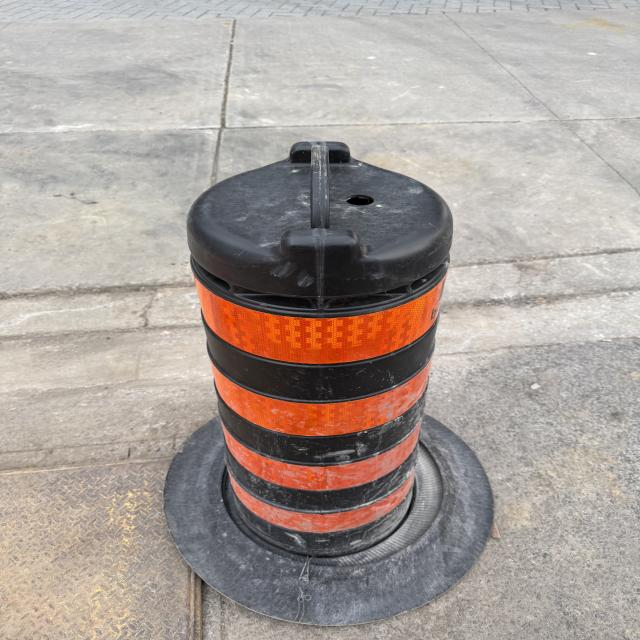Teraffic Barrel: (166, 142, 490, 624)
